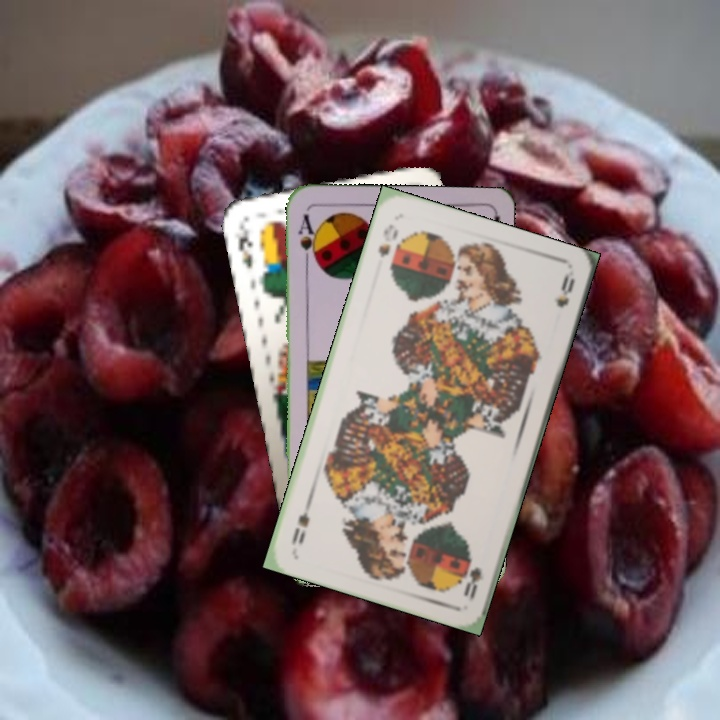EK: (233, 221, 256, 271)
SA: (294, 210, 320, 267)
SO: (459, 551, 486, 604), (374, 219, 401, 260)
